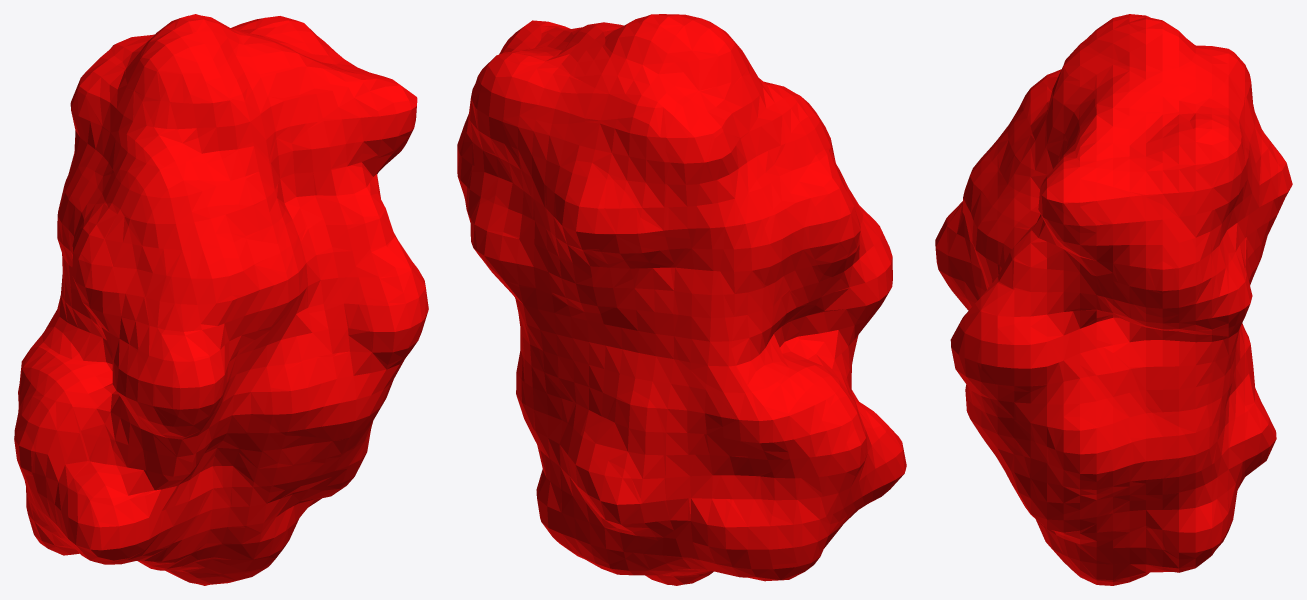
Rendered from chrR_coarse.dae.
The picture shows the model from 3 angles, left to right: view 1: azimuth 30°, elevation 25°; view 2: azimuth 150°, elevation 25°; view 3: azimuth 270°, elevation 25°; orthographic projection. The views are drawn at different scales.
Visible parts, largest first — view 1: chrR; view 2: chrR; view 3: chrR.
Boxes of the visible parts, bbox=[...] form: chrR: bbox=[14, 14, 428, 585]; chrR: bbox=[457, 14, 906, 585]; chrR: bbox=[935, 14, 1292, 585].
Size of the model in its own units: 52.25 by 75.27 by 43.92.
